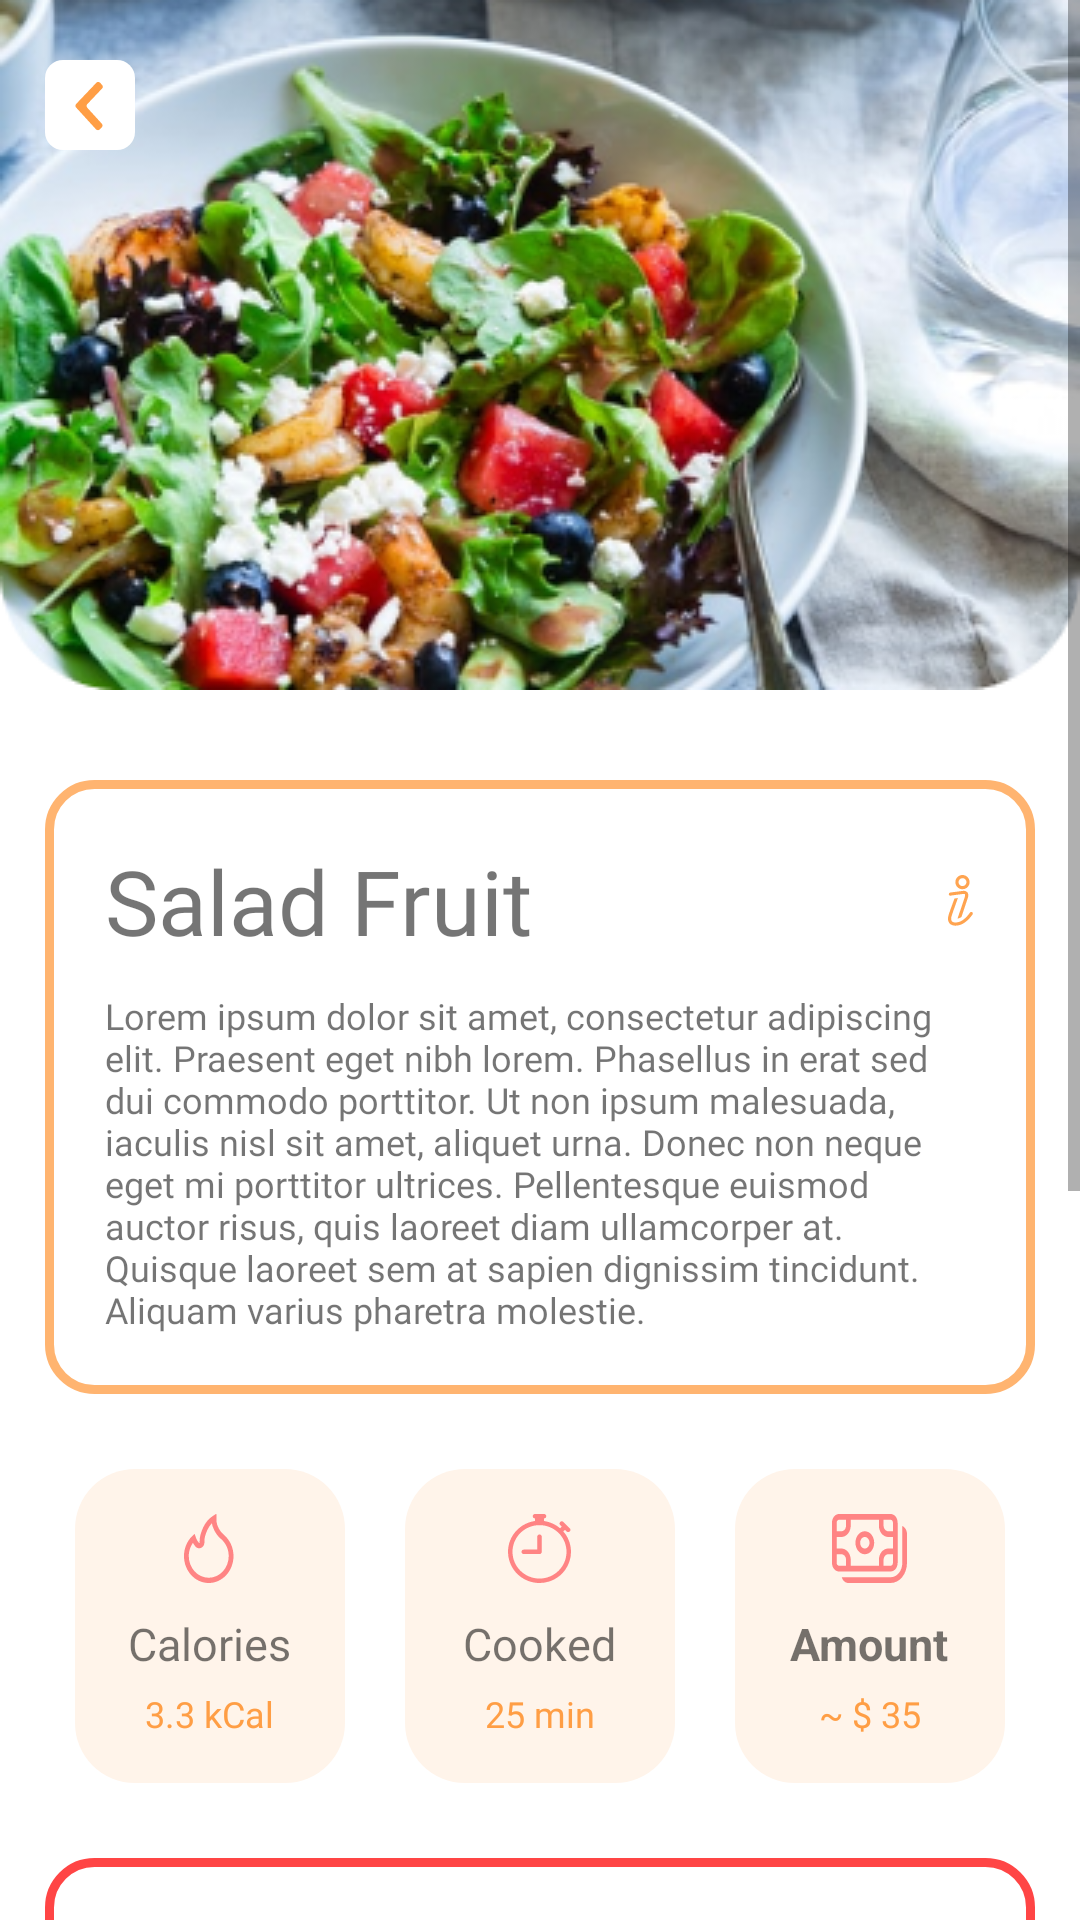

Icons on this 1080*1920 Android screen, each with the point to tap as [x,y]:
back: [90,105]
